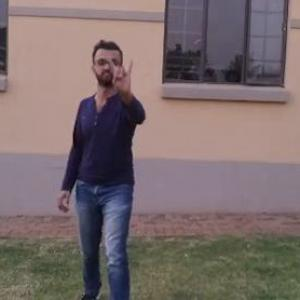takeoff-hand: (106, 44, 141, 97)
